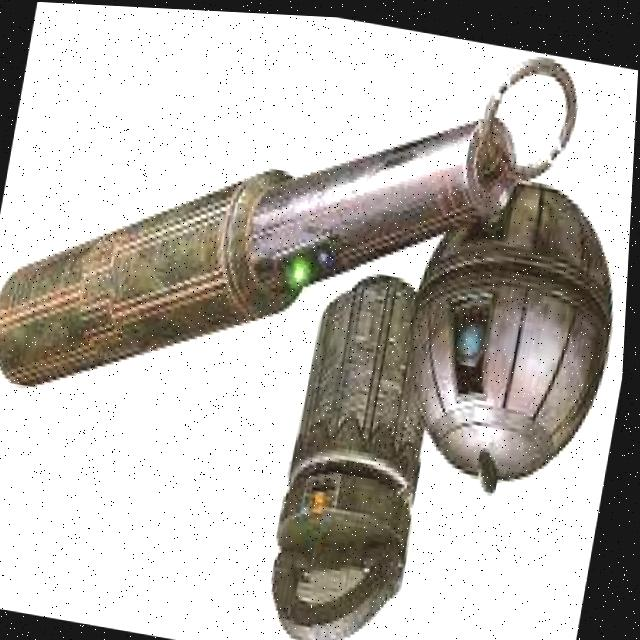grenade: (0, 0, 537, 487), (396, 162, 634, 496), (259, 261, 454, 640)
